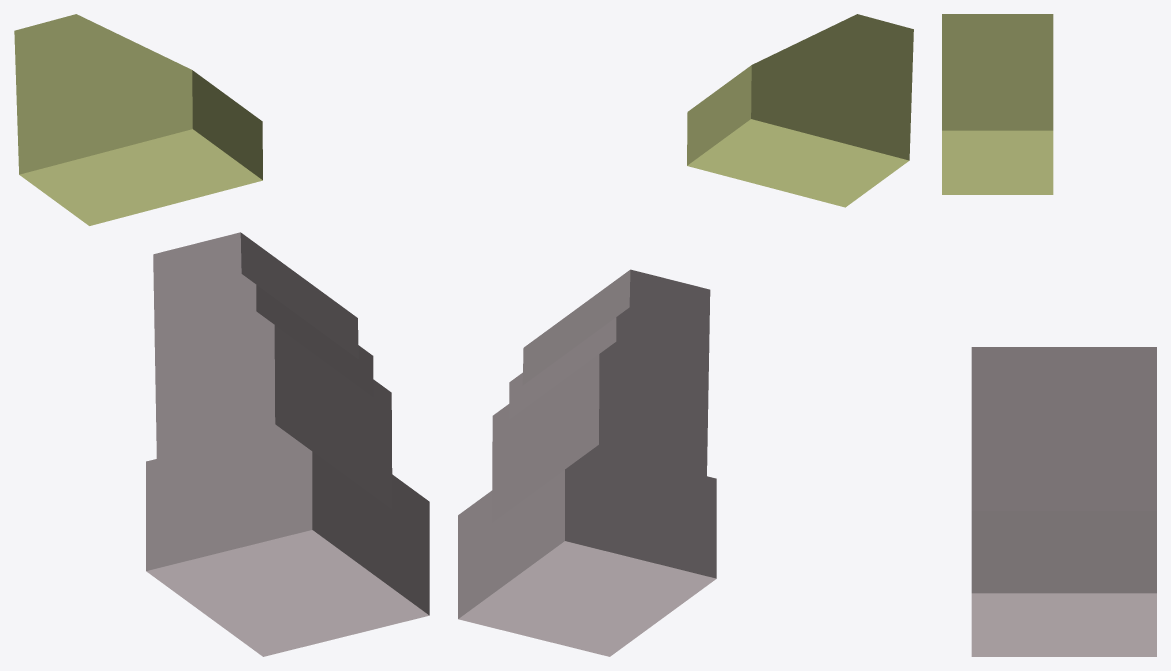
3 renders of one model, left to right at view 1: azimuth 30°, elevation 25°; view 2: azimuth 150°, elevation 25°; view 3: azimuth 270°, elevation 25°, orthographic. The views are drawn at different scales.
Parts seen in each view (by area): view 1: 0_0_1_1_3_2_3_2_1; view 2: 0_0_1_1_3_2_3_2_1; view 3: 0_0_1_1_3_2_3_2_1.
Part boxes in pixels (x1=…): 0_0_1_1_3_2_3_2_1: x1=14, y1=14, x2=429, y2=656; 0_0_1_1_3_2_3_2_1: x1=458, y1=14, x2=913, y2=656; 0_0_1_1_3_2_3_2_1: x1=942, y1=14, x2=1156, y2=656.
Bounding box in the file's own units: 26.87 × 45.07 × 17.4.
